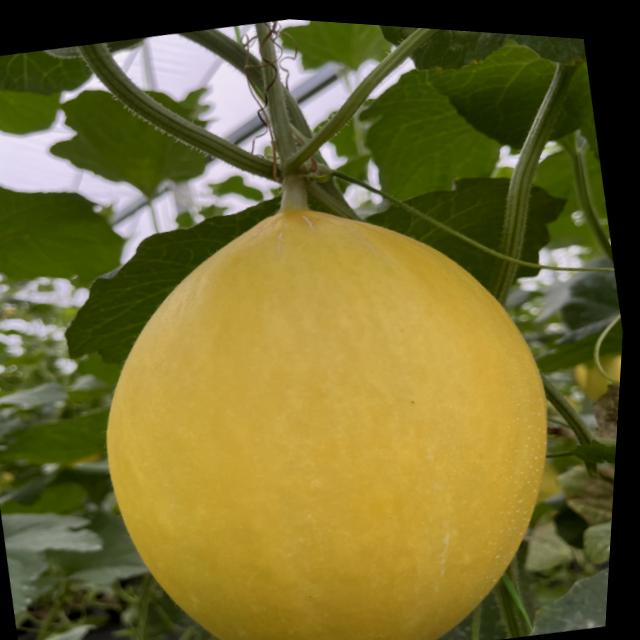healthy: (368, 206, 508, 295), (405, 177, 510, 251), (517, 185, 566, 263)
powdery mildew: (365, 25, 588, 103)
